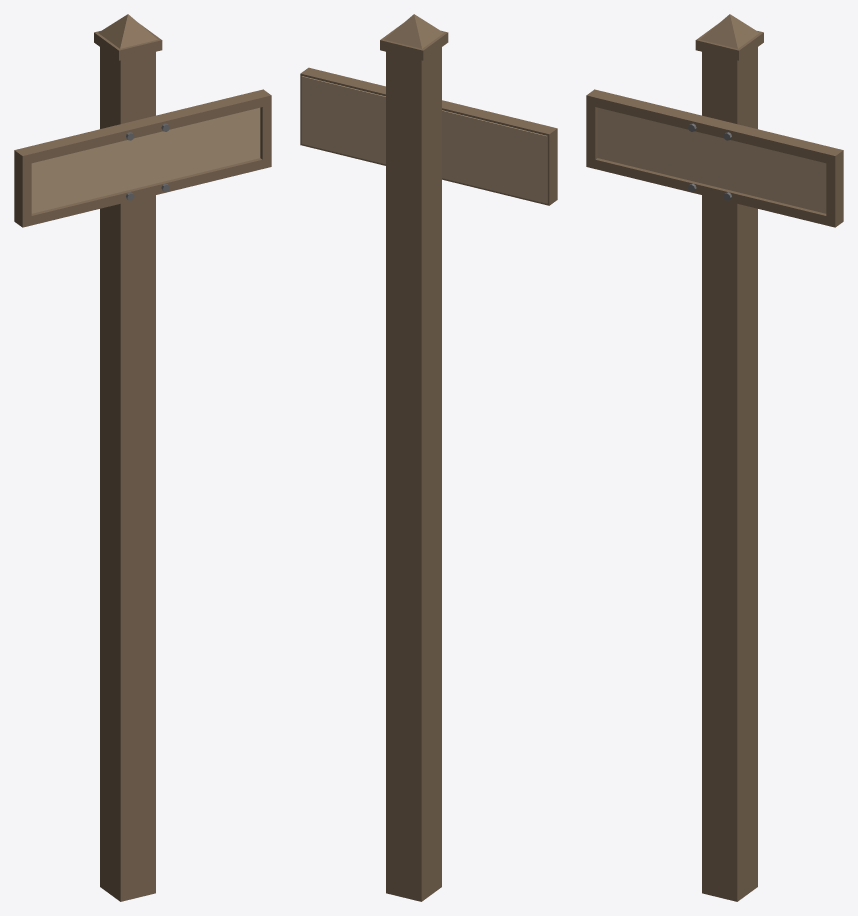
Rendered from street_post_7592bb9e.glb.
3 views of the same model, side by side, from view 1: azimuth 30°, elevation 25°; view 2: azimuth 150°, elevation 25°; view 3: azimuth 330°, elevation 25° (orthographic).
Visible parts, largest first — view 1: street_post; view 2: street_post; view 3: street_post.
Boxes of the visible parts, x1,y1,x2,y2 form: street_post: (14, 14, 271, 901); street_post: (300, 14, 557, 901); street_post: (586, 14, 843, 901).
Size of the model in its own units: 0.772 by 2.6 by 0.178.
